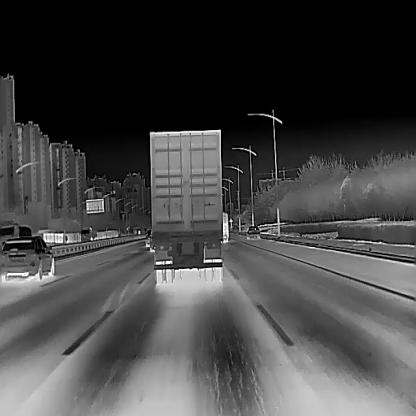bus: (220, 212, 228, 242)
car: (0, 234, 54, 280), (246, 225, 259, 238)
truck: (149, 128, 223, 283), (0, 219, 32, 247), (80, 226, 97, 240)
